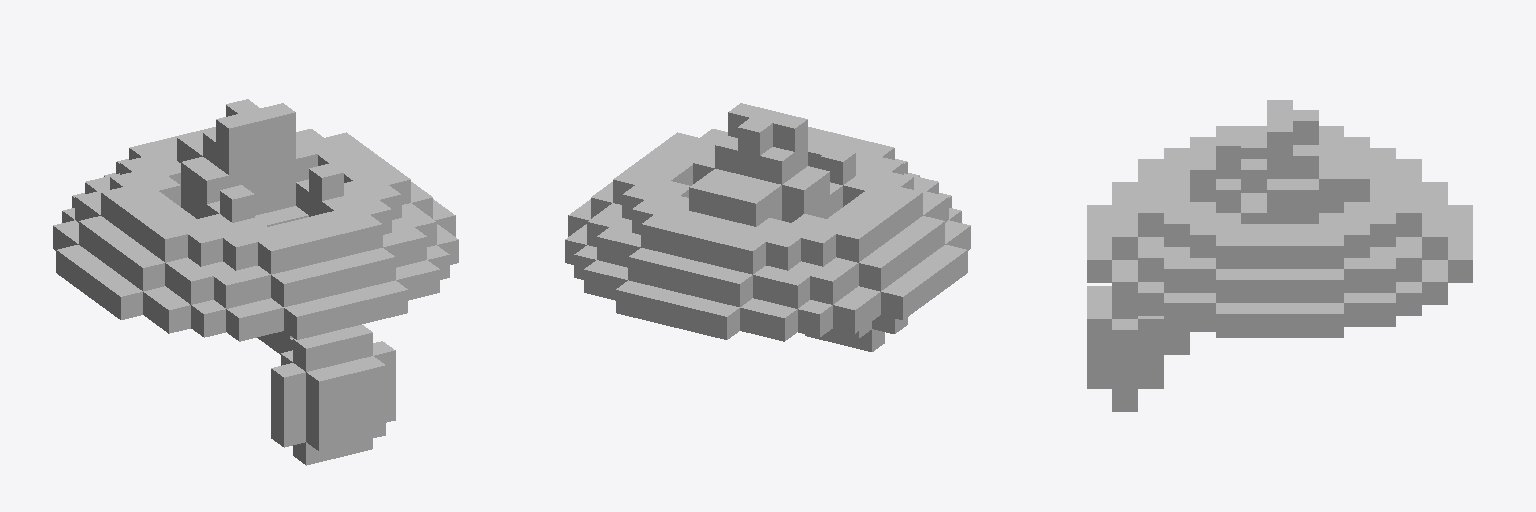
The model's file is spotlight bod.obj.
3 views of the same model, side by side, from view 1: azimuth 30°, elevation 25°; view 2: azimuth 150°, elevation 25°; view 3: azimuth 270°, elevation 25° (orthographic).
Parts seen in each view (by area): view 1: object 1; view 2: object 1; view 3: object 1.
Boxes of the visible parts, box(x1,y1,x2,y2) form: object 1: box(53, 99, 458, 465); object 1: box(565, 103, 970, 351); object 1: box(1087, 100, 1472, 411).
Bounding box in the file's own units: 1.5 × 1.2 × 1.5.